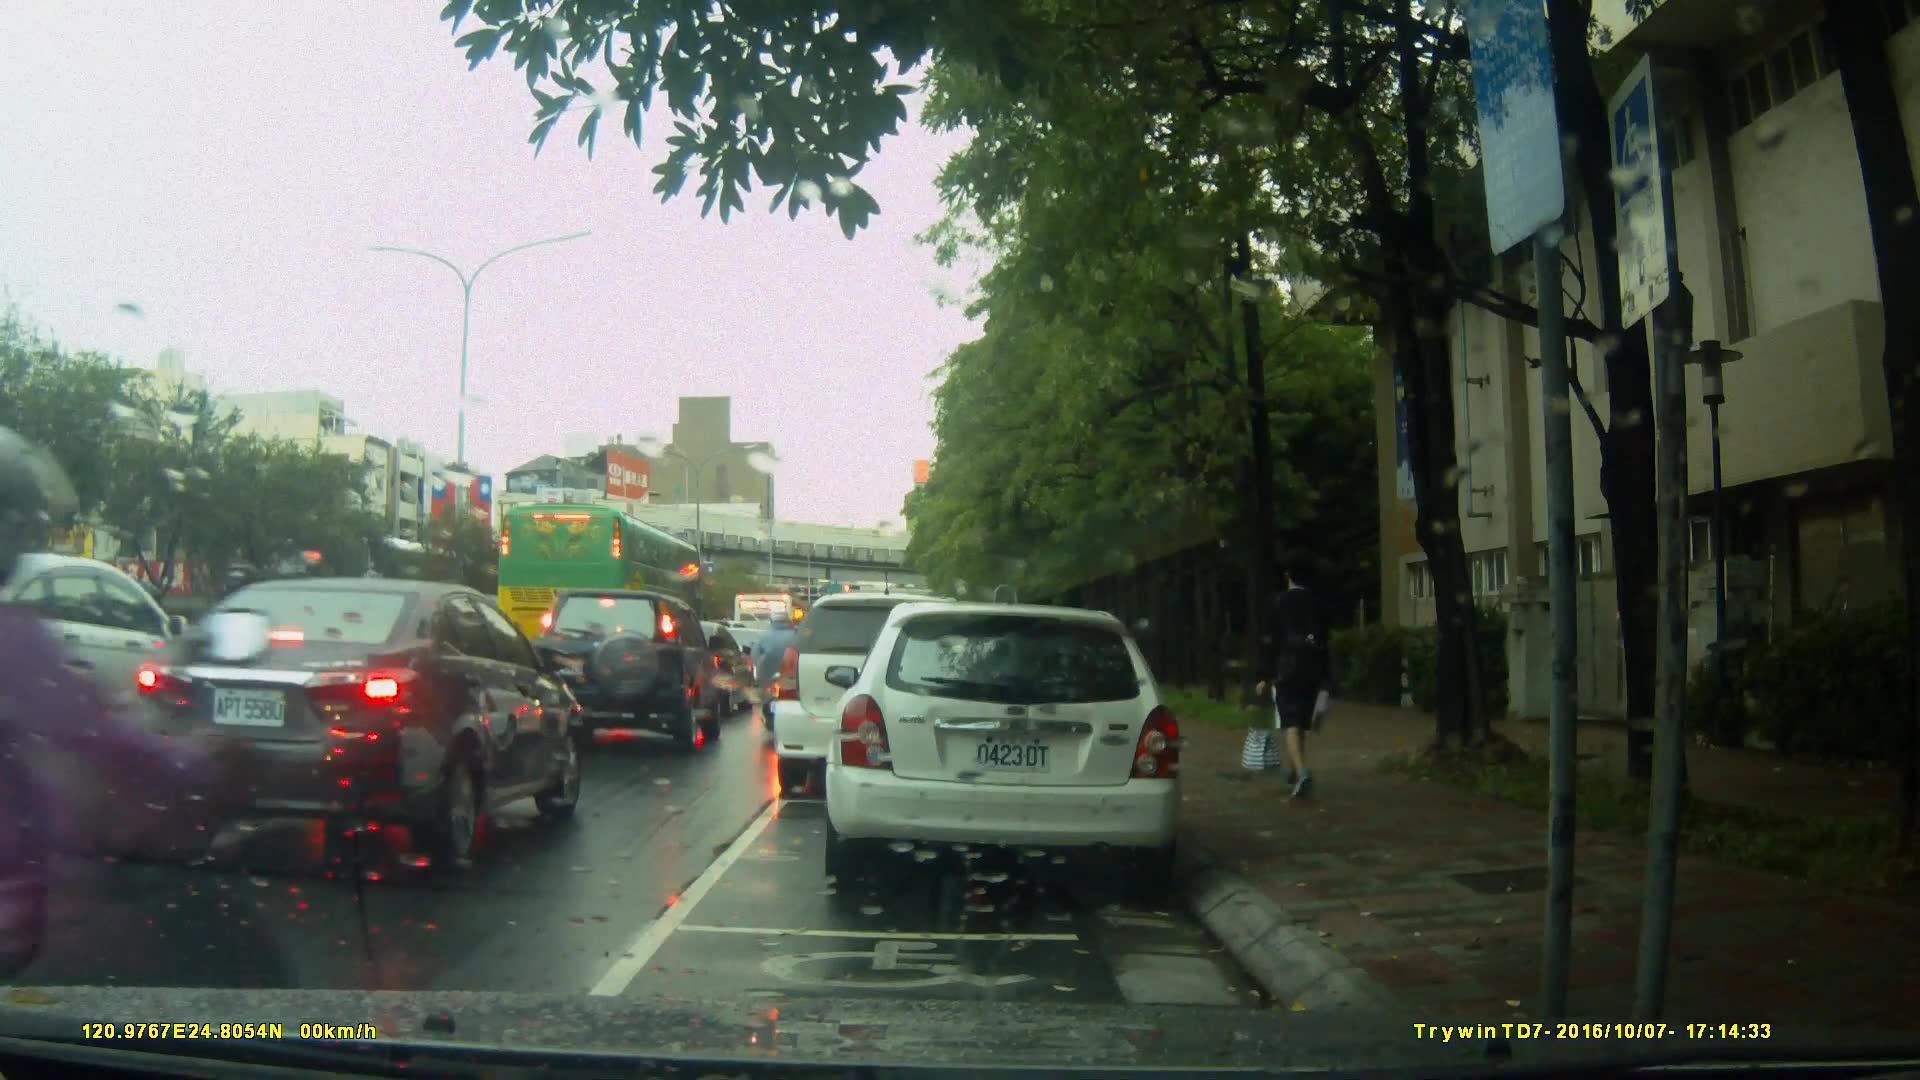pedestrian: (1239, 550, 1351, 806)
rider: (1, 408, 290, 1080), (751, 607, 806, 731)
vehicle: (125, 574, 585, 876), (831, 592, 1196, 897), (770, 592, 999, 799), (4, 554, 227, 747), (493, 500, 707, 653), (530, 585, 727, 751)
